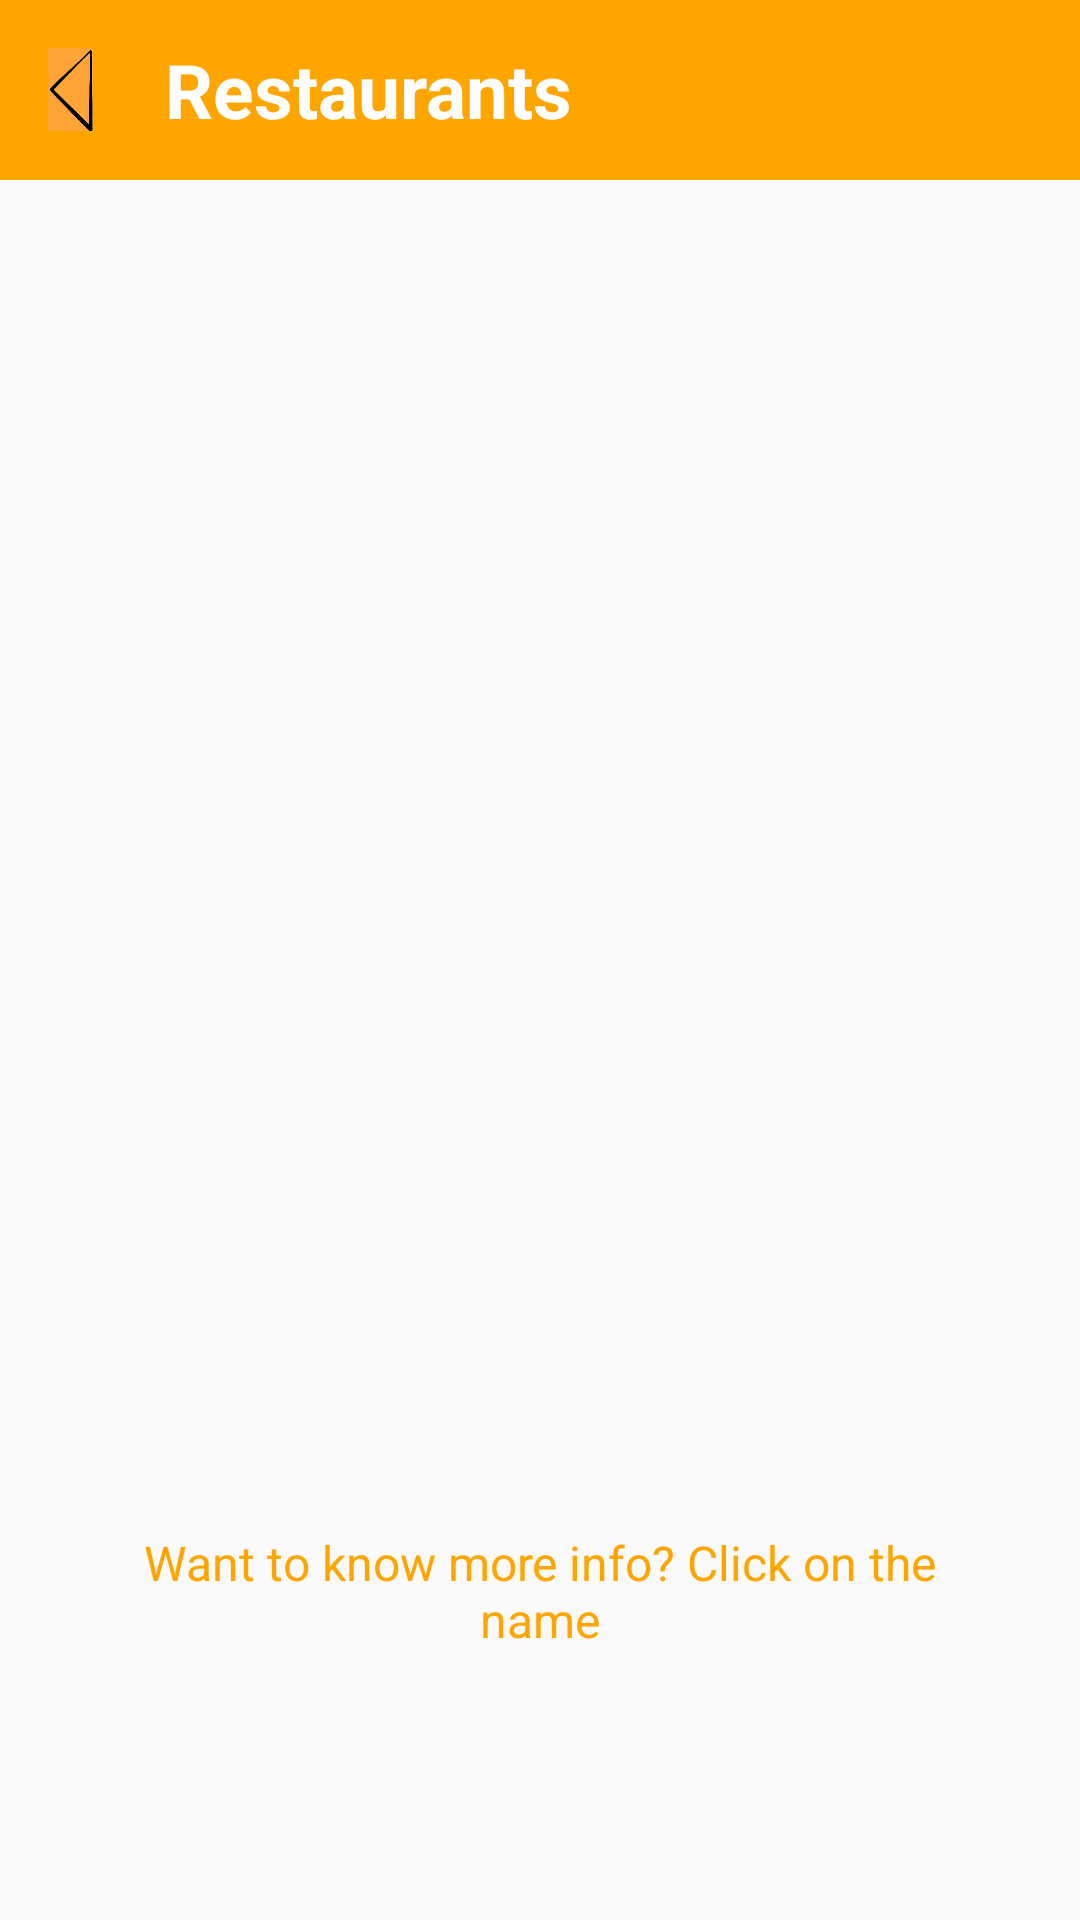

Where icons sit on this 1080px x 1920px app screen, as (x1, y1, x2, y2):
backarrow: (48, 48, 93, 131)
